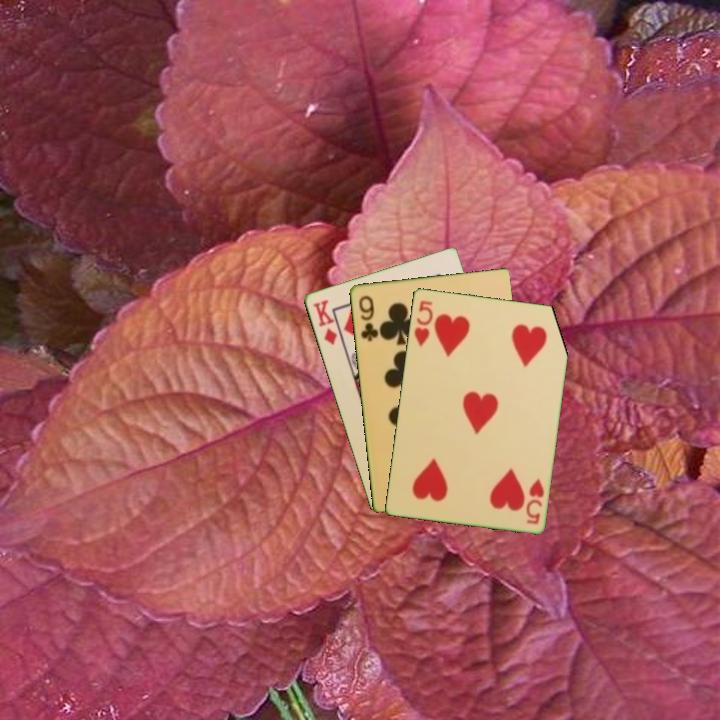5h: (410, 297, 436, 349), (522, 475, 547, 527)
9c: (355, 292, 380, 344)
Kd: (309, 296, 340, 348)
